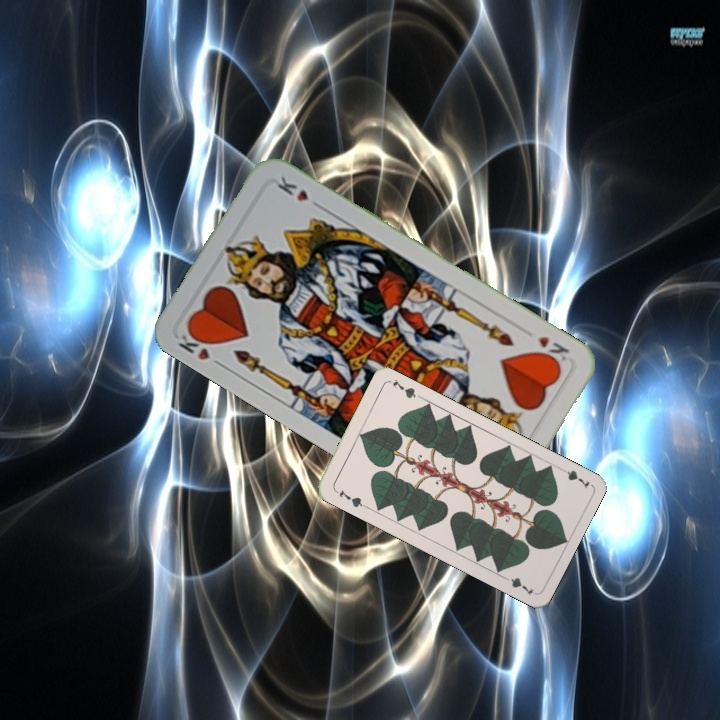G7: (554, 463, 592, 491), (335, 486, 369, 510)
HK: (173, 324, 227, 370), (532, 332, 572, 368)
